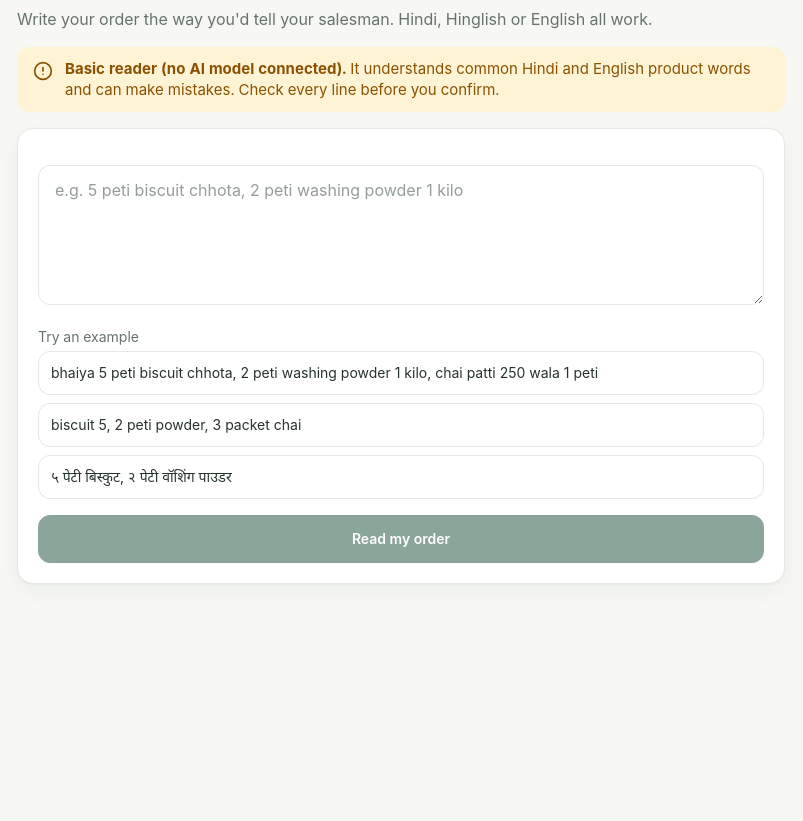
Test case: AI order capture review (sample message from the brief) › shows fallback mode honestly, flags the out-of-stock tea, and only confirms after it is removed
Later steps or results of the test are not shown.
Expected: the text "Basic reader (no AI model connected)." is shown, left=65, top=59, right=346, bottom=78
Type "bhaiya 5 peti biscuit chhota, 2 peti washing powder 1 kilo, chai patti 250 wala 1 peti" into the text box named "Order by message" at (401, 235), box left=38, top=165, right=764, bottom=305
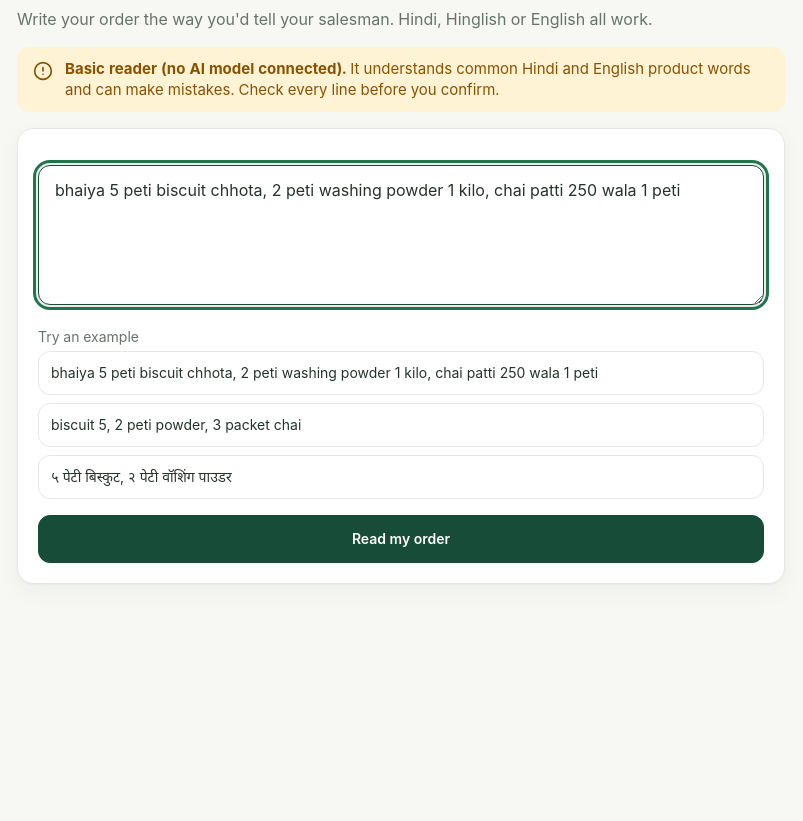
Click the button "Read my order" at (401, 539), box left=38, top=515, right=764, bottom=563
(page scrolled)
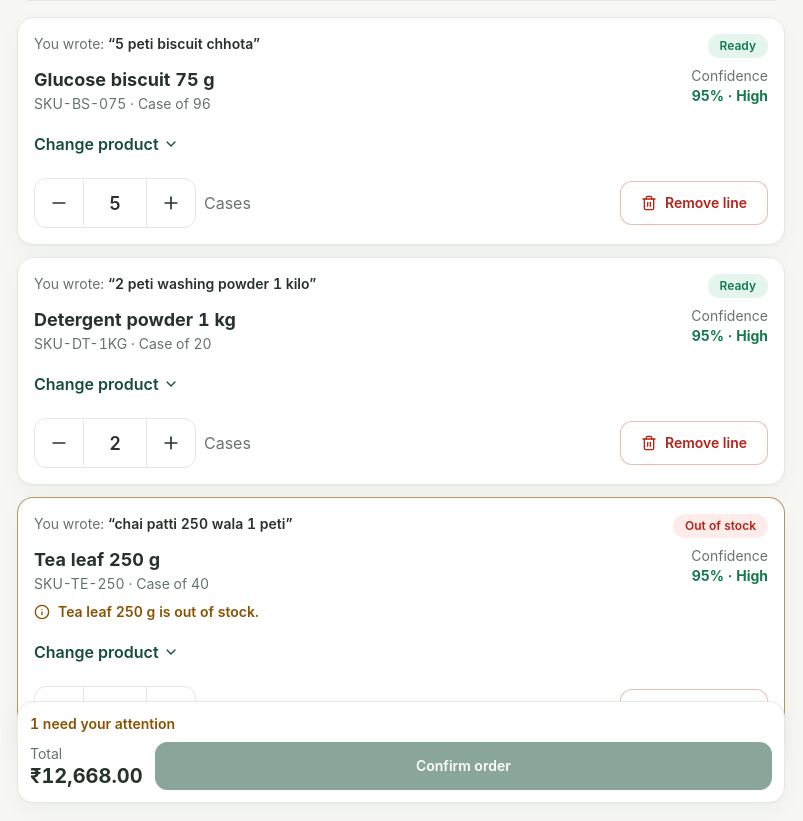
Expected: the text "5 peti biscuit chhota" is shown, left=108, top=35, right=260, bottom=52
Expected: the text "2 peti washing powder 1 kilo" is shown, left=108, top=275, right=316, bottom=292
Expected: the text "chai patti 250 wala 1 peti" is shown, left=108, top=515, right=292, bottom=532
